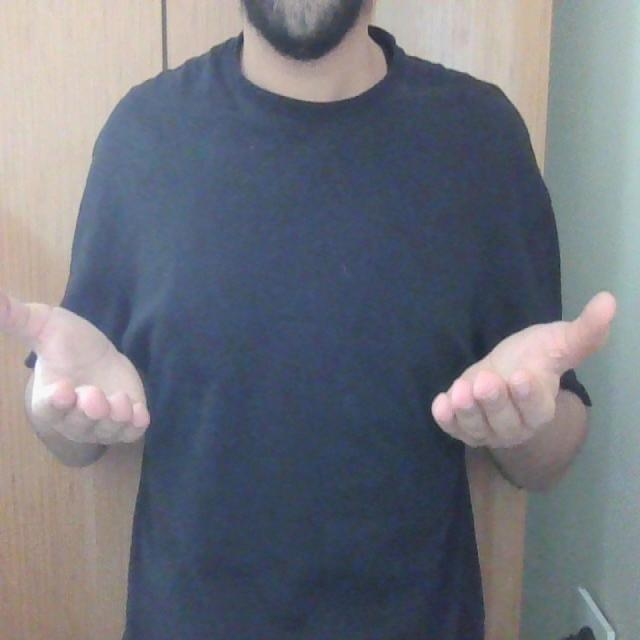Evet: (0, 283, 622, 458)
